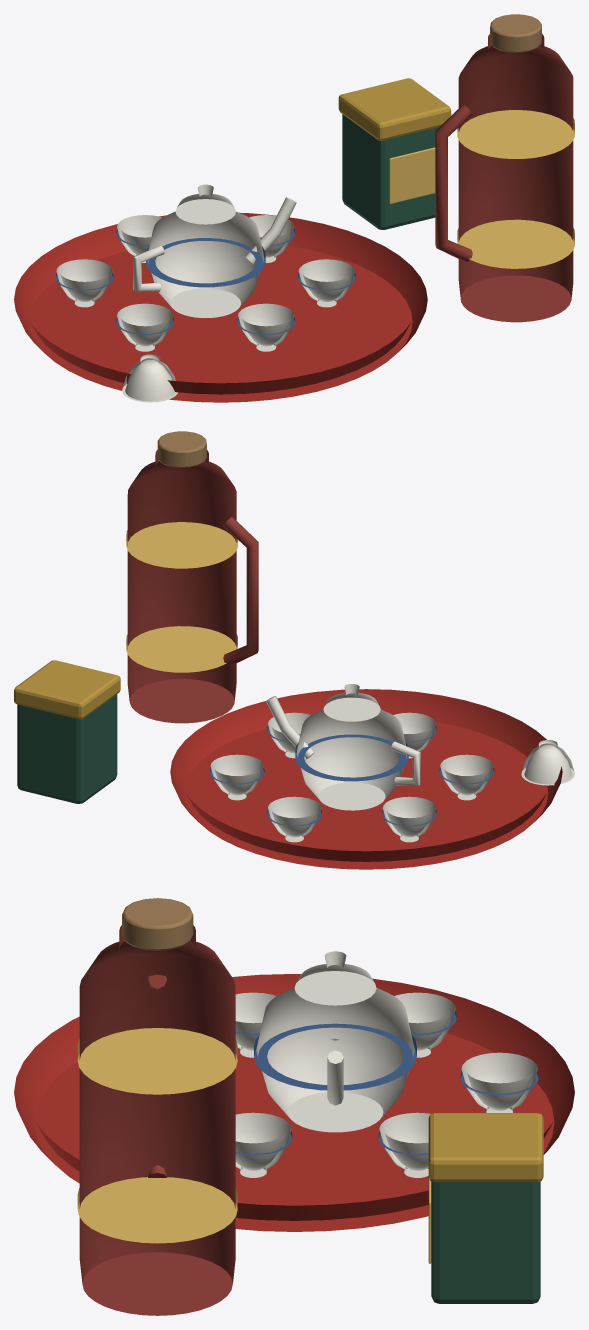
The model's file is KhayAmChen.glb.
The picture shows the model from 3 angles, top to bottom: view 1: azimuth 30°, elevation 25°; view 2: azimuth 150°, elevation 25°; view 3: azimuth 270°, elevation 25°; orthographic projection. The views are drawn at different scales.
Visible parts, largest first — view 1: geometry_0; view 2: geometry_0; view 3: geometry_0.
Part boxes in pixels (x1,y1,x2,y2): geometry_0: [14, 14, 574, 402]; geometry_0: [14, 431, 574, 869]; geometry_0: [14, 898, 574, 1315].
Size of the model in its own units: 0.5435 by 0.3 by 0.41.
